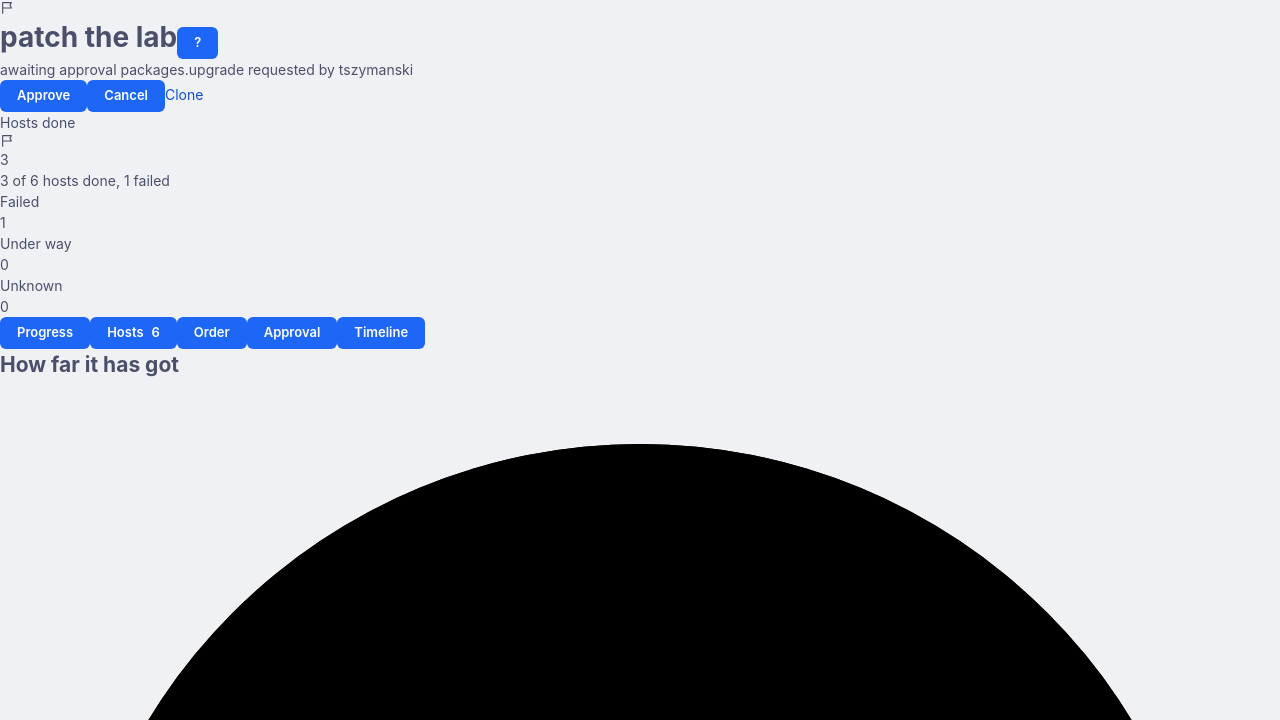
one campaign › refuses the consent while a host carries a plan the panel cannot read
The image size is (1280, 720).
Click the button with test id "approve" at (44, 96), box x1=0 y1=80 x2=87 y2=112
(page scrolled)
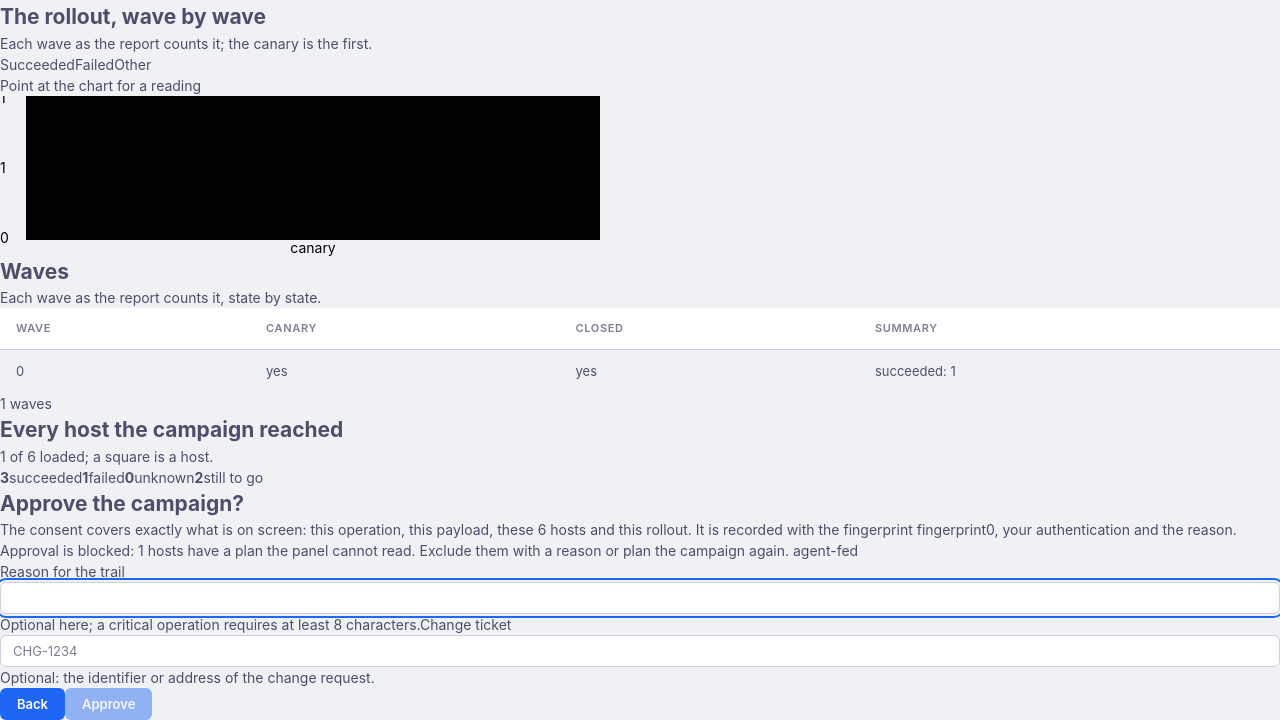
Check: the button with test id "confirm-approve" is disabled, box x1=65 y1=688 x2=152 y2=719
Check: the text "Approval is blocked" is shown, box x1=0 y1=542 x2=789 y2=559
